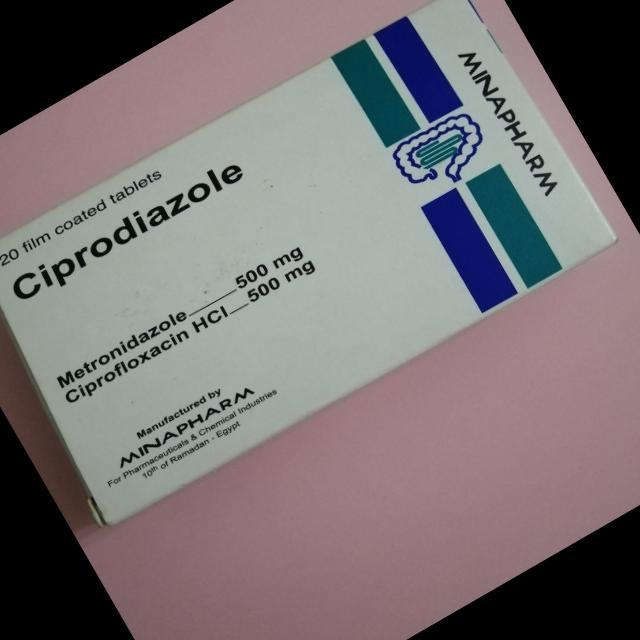Medicine Name: (0, 144, 254, 314)
